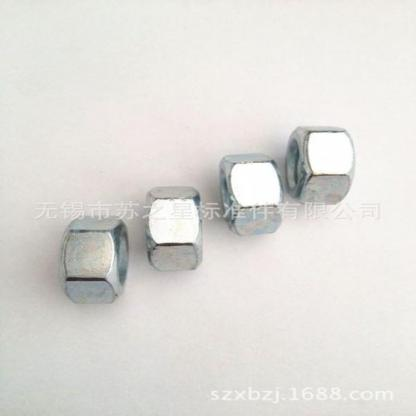FOD: (59, 214, 131, 308), (216, 152, 287, 238), (282, 125, 354, 207), (145, 180, 204, 276)
